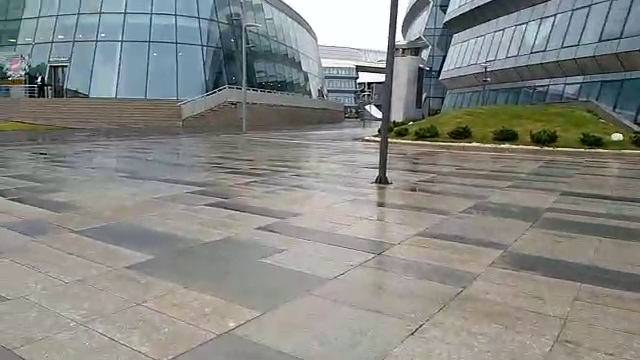pivo: (1, 51, 39, 99)
